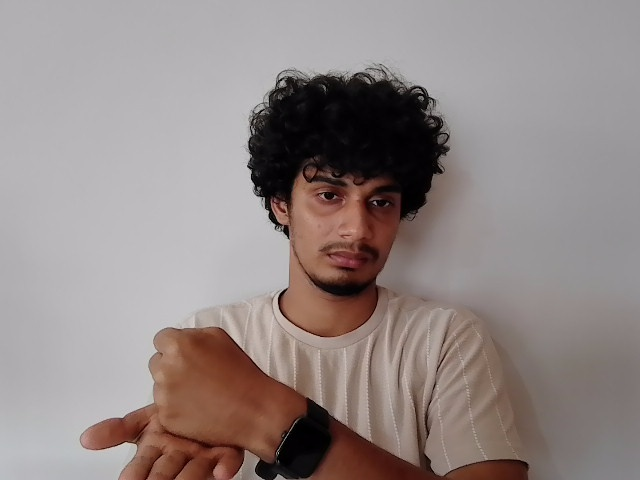help: (79, 328, 275, 480)
